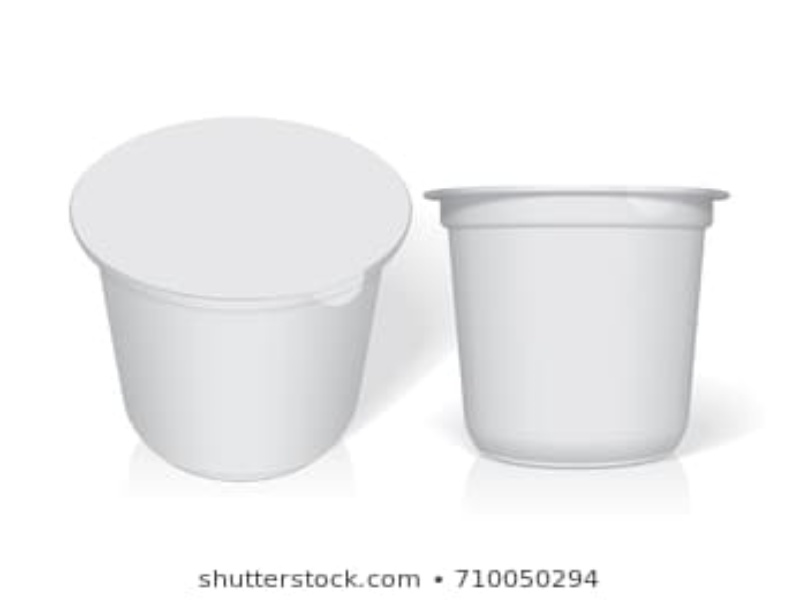yogurt-cup: (73, 118, 411, 482), (416, 184, 731, 467)
